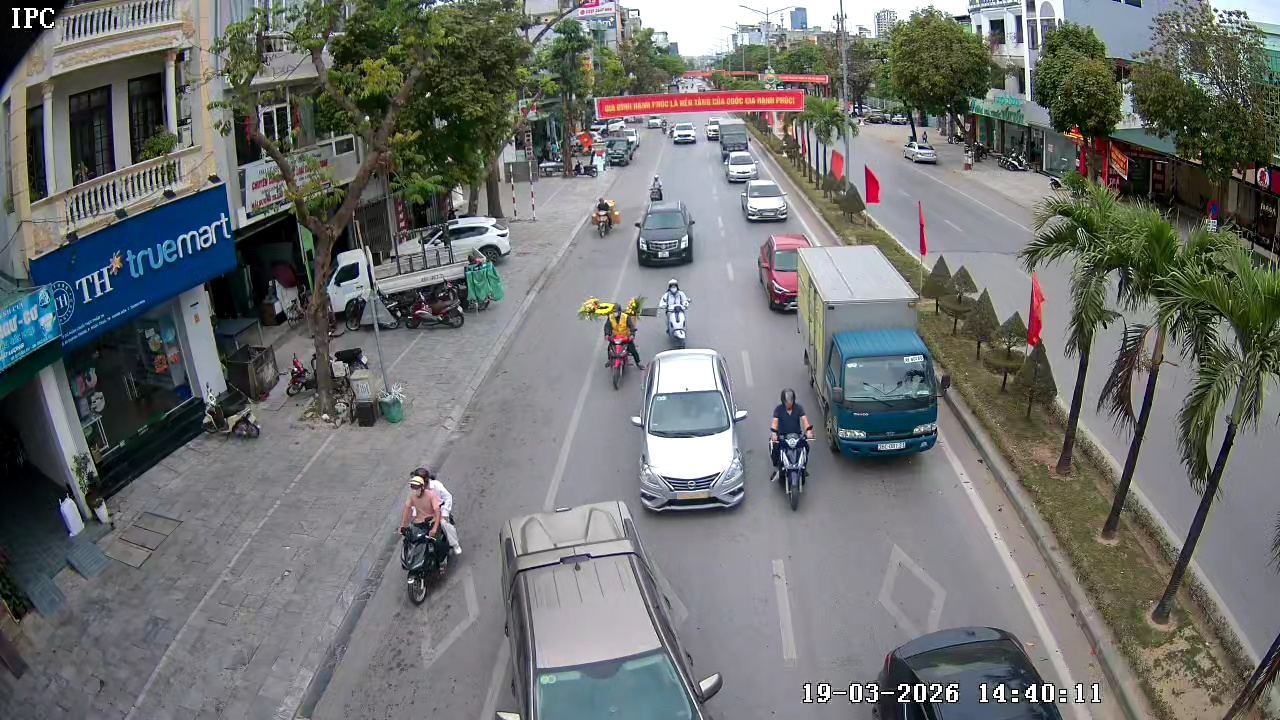car: (498, 498, 723, 719), (799, 239, 942, 458), (630, 346, 751, 515), (632, 200, 698, 268), (756, 231, 807, 313), (740, 178, 790, 224), (723, 149, 757, 182), (669, 123, 697, 145)
motorbike: (766, 388, 814, 512), (395, 490, 444, 607), (603, 304, 643, 390), (658, 277, 693, 348), (590, 195, 618, 239), (647, 174, 666, 203)
truck: (797, 242, 943, 459)
